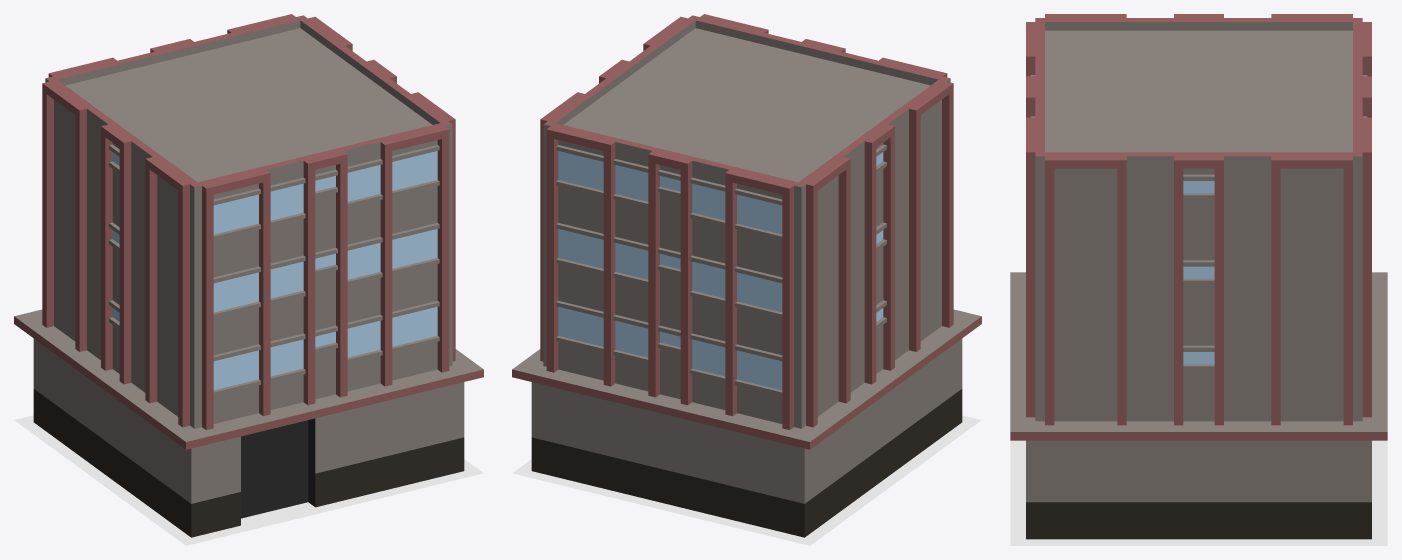
File: building (5).fbx
The picture shows the model from 3 angles, left to right: view 1: azimuth 30°, elevation 25°; view 2: azimuth 150°, elevation 25°; view 3: azimuth 270°, elevation 25°; orthographic projection. The views are drawn at different scales.
Parts seen in each view (by area): view 1: Model, Group1; view 2: Model, Group1; view 3: Model, Group1.
Part boxes in pixels (x1=…): Model: x1=14, y1=14, x2=483, y2=537; Group1: x1=14, y1=415, x2=483, y2=545; Model: x1=512, y1=14, x2=981, y2=537; Group1: x1=512, y1=415, x2=981, y2=545; Model: x1=1010, y1=14, x2=1387, y2=539; Group1: x1=1010, y1=440, x2=1387, y2=545.
Size of the model in its own units: 120 by 133 by 120.
